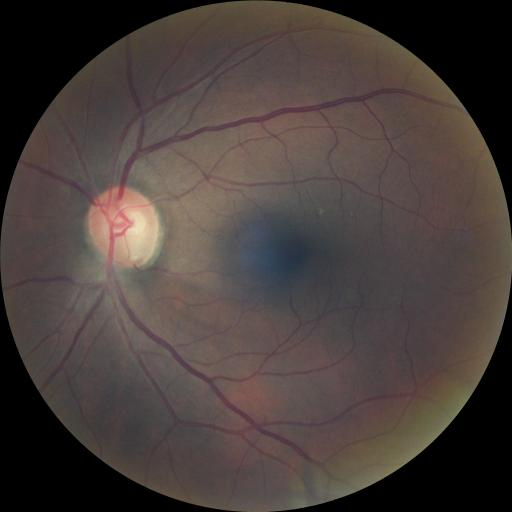Optic Disc: (87, 186, 157, 268)
